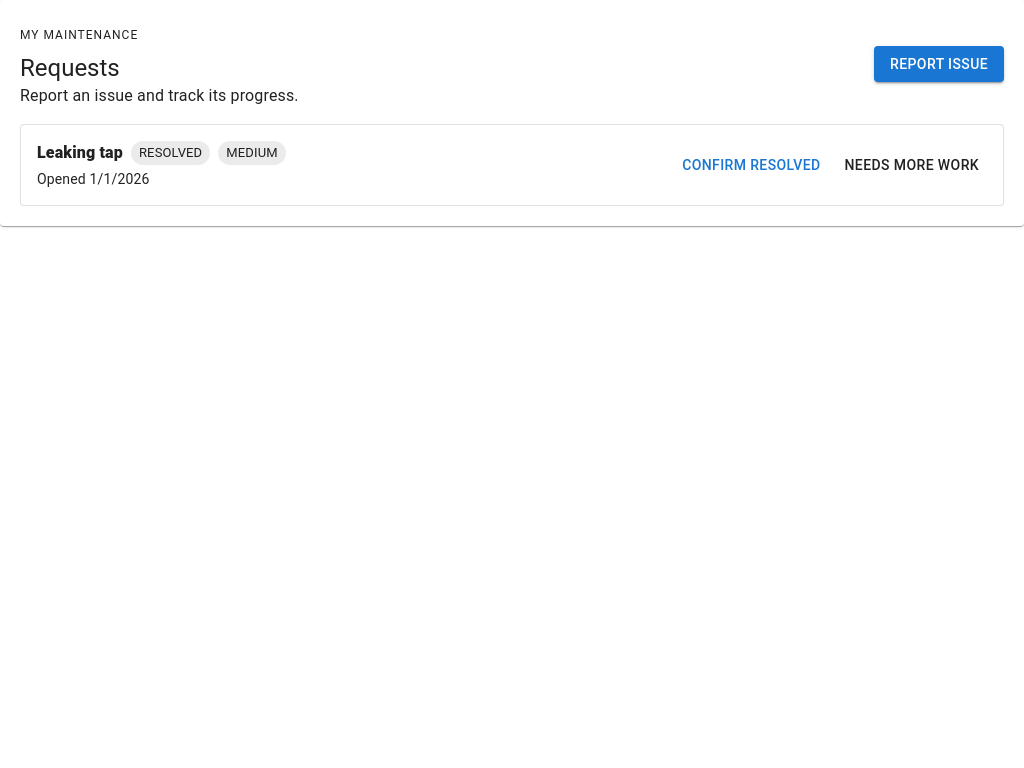
scopes the report-issue space picker to only the tenant's own assigned space
The image size is (1024, 768).
Click the button "Report issue" at (939,64), box [874,46,1004,82]
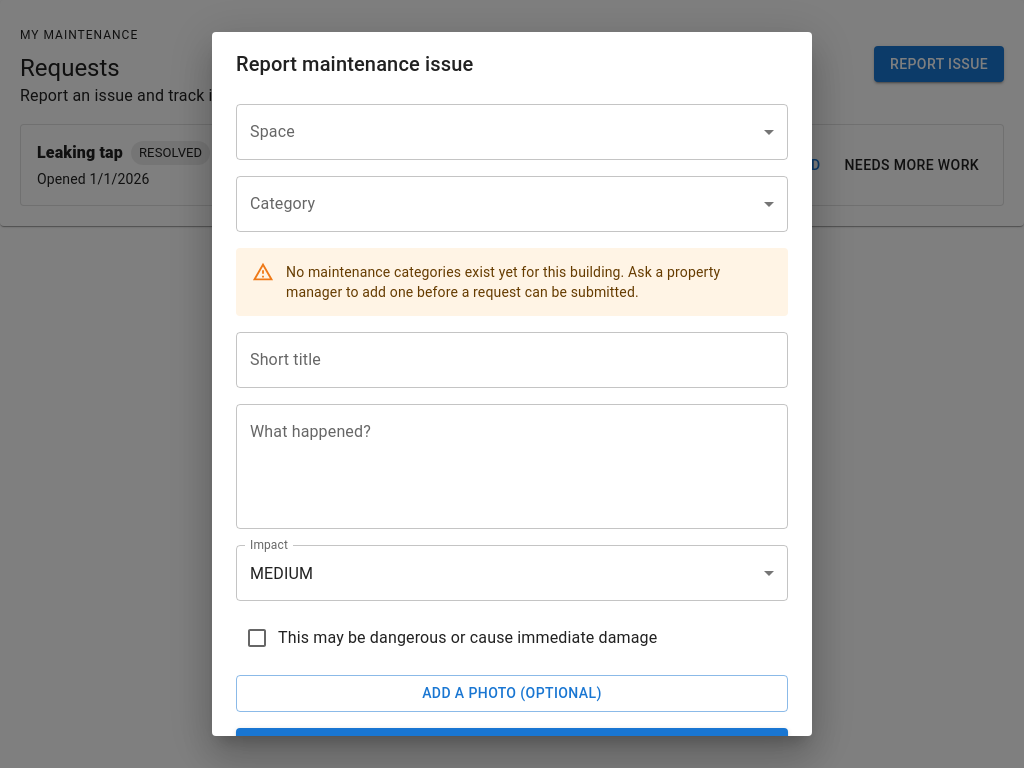
Click the dropdown named "Space" next to "Space" at (512,132), box [236,104,788,160]
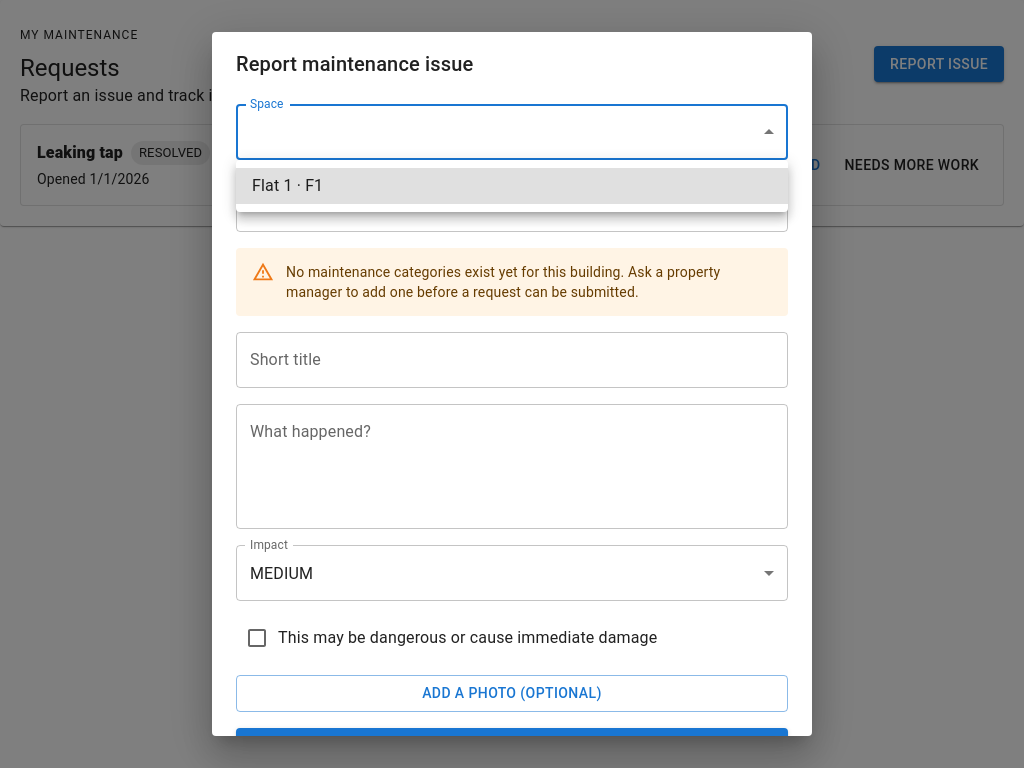
Check: the option "Flat 1 · F1" is shown, box [236,168,788,204]
